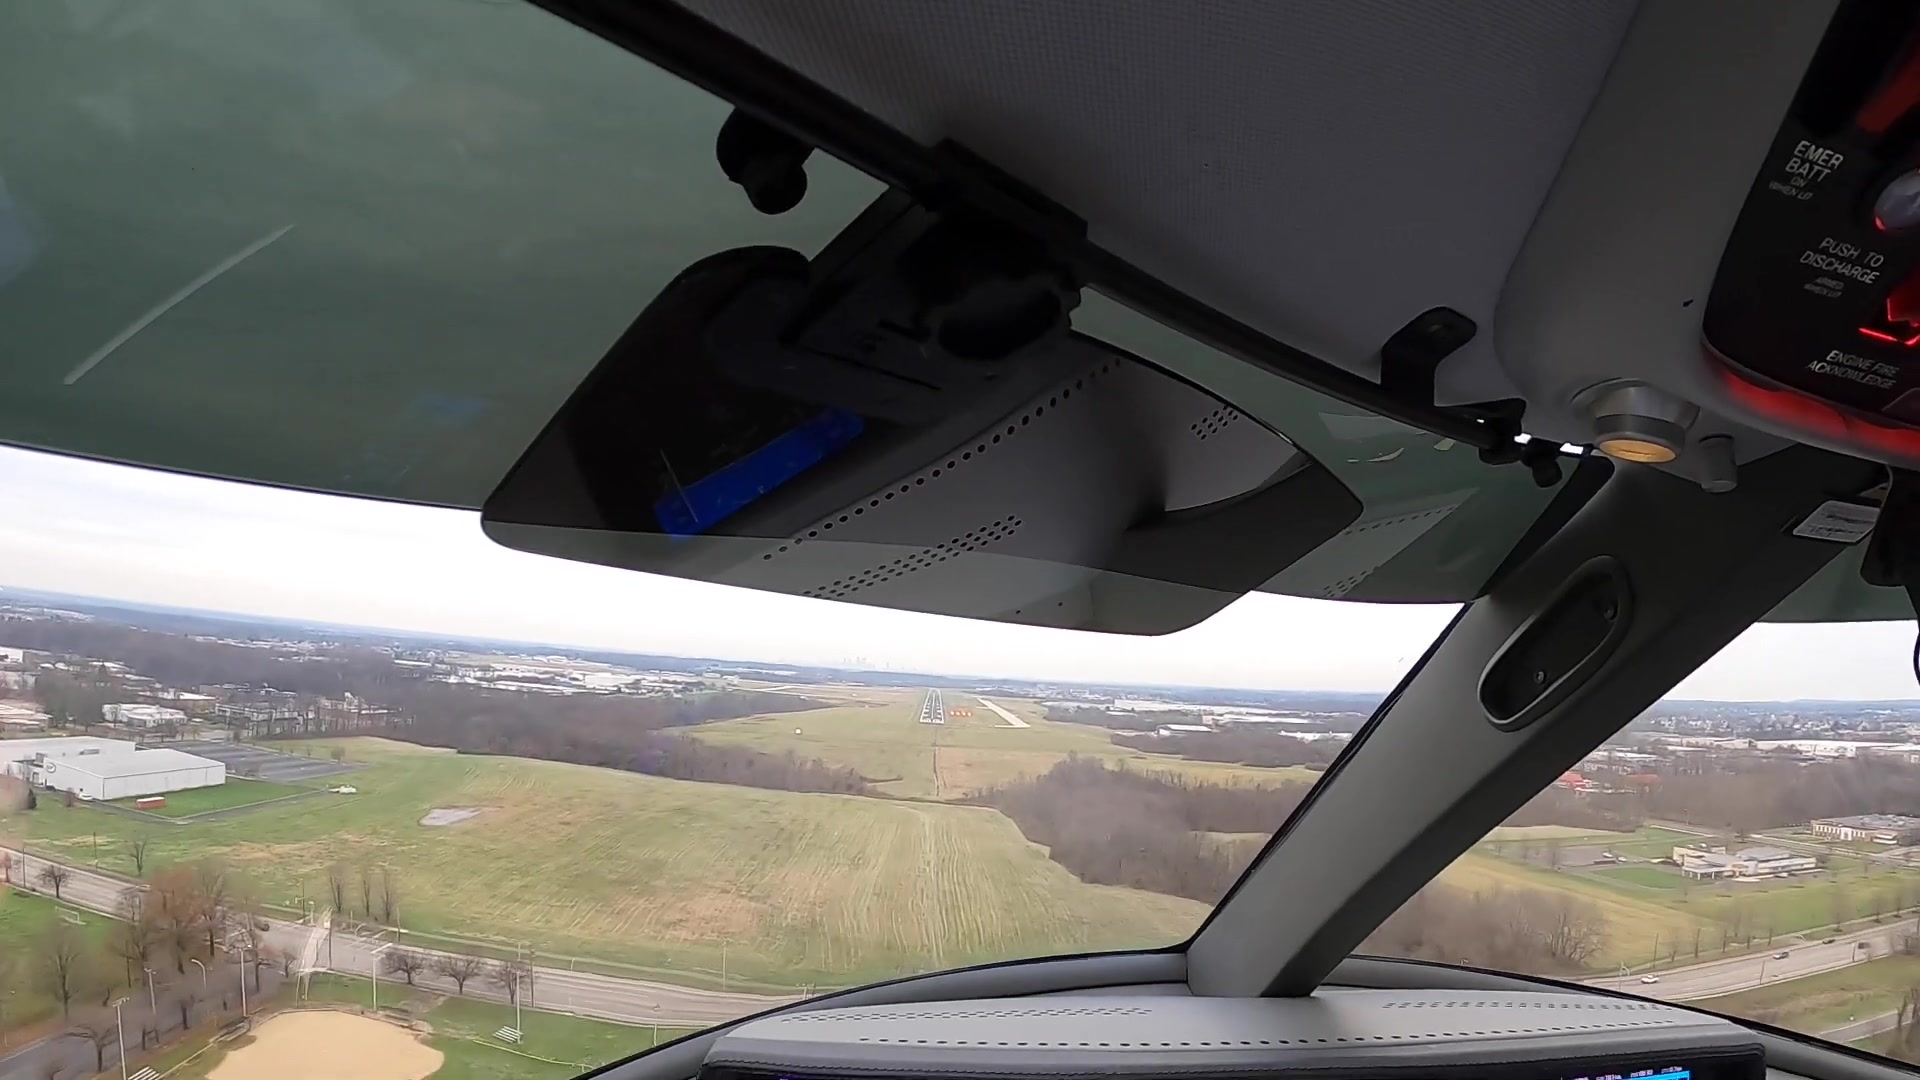runway: (918, 687, 945, 724)
